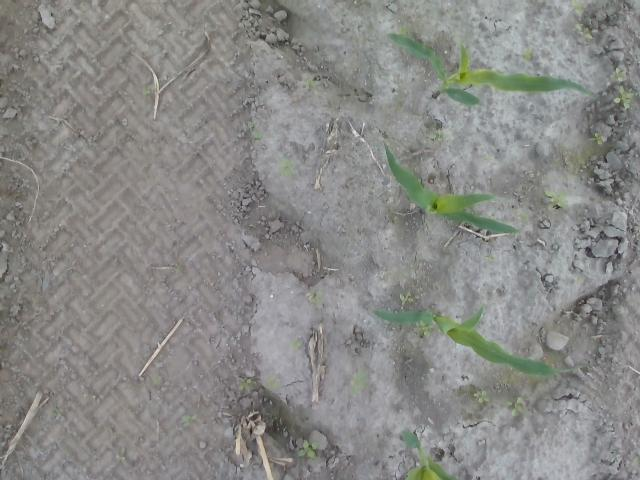Maize: (369, 304, 581, 380), (386, 33, 600, 107), (380, 140, 521, 237), (398, 425, 458, 479)
Weeds: (543, 190, 568, 208), (351, 368, 368, 394), (614, 84, 632, 108), (296, 439, 318, 458), (246, 119, 263, 139), (414, 321, 434, 337), (576, 22, 592, 40), (510, 397, 524, 416), (238, 376, 254, 392), (278, 160, 293, 176), (570, 0, 586, 15), (474, 388, 489, 404), (429, 128, 444, 142), (399, 292, 414, 305), (304, 79, 323, 89), (305, 291, 320, 303), (615, 66, 625, 82), (267, 377, 280, 389), (181, 414, 193, 426), (522, 48, 533, 60), (288, 338, 302, 347), (594, 132, 603, 144), (142, 87, 152, 97)
